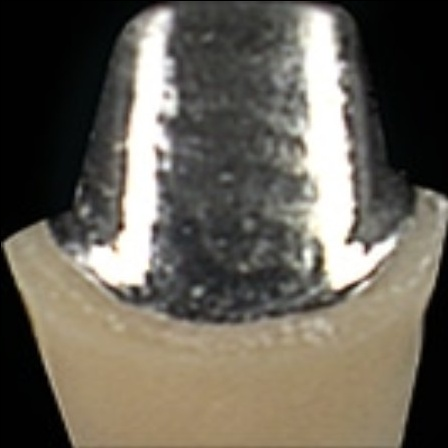coin_1: (415, 181, 435, 201)
coin_2: (366, 32, 386, 52)
coin_3: (70, 205, 90, 225)
coin_4: (109, 53, 130, 73)
